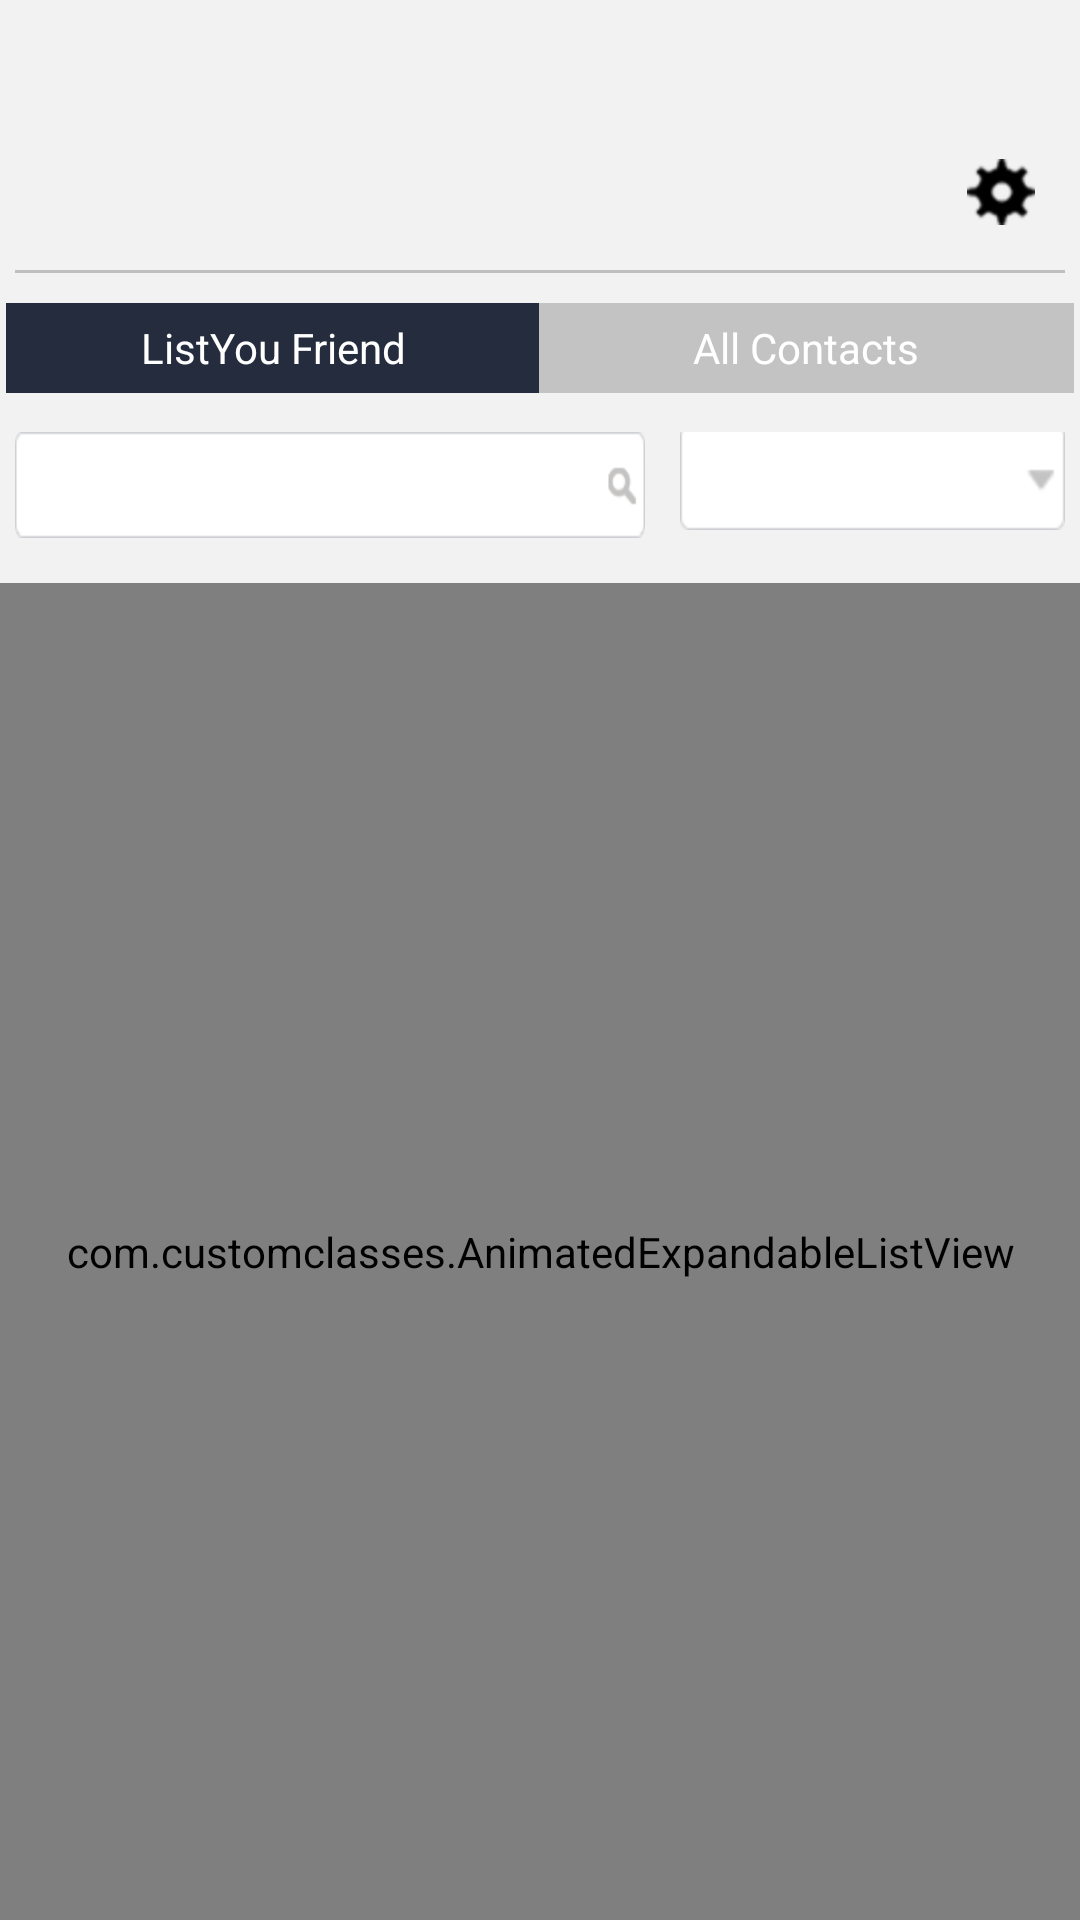

Named icons in this screenshot (1080px x 1920px) and their centers, (x=x, y=y):
setting: (x=1001, y=192)
